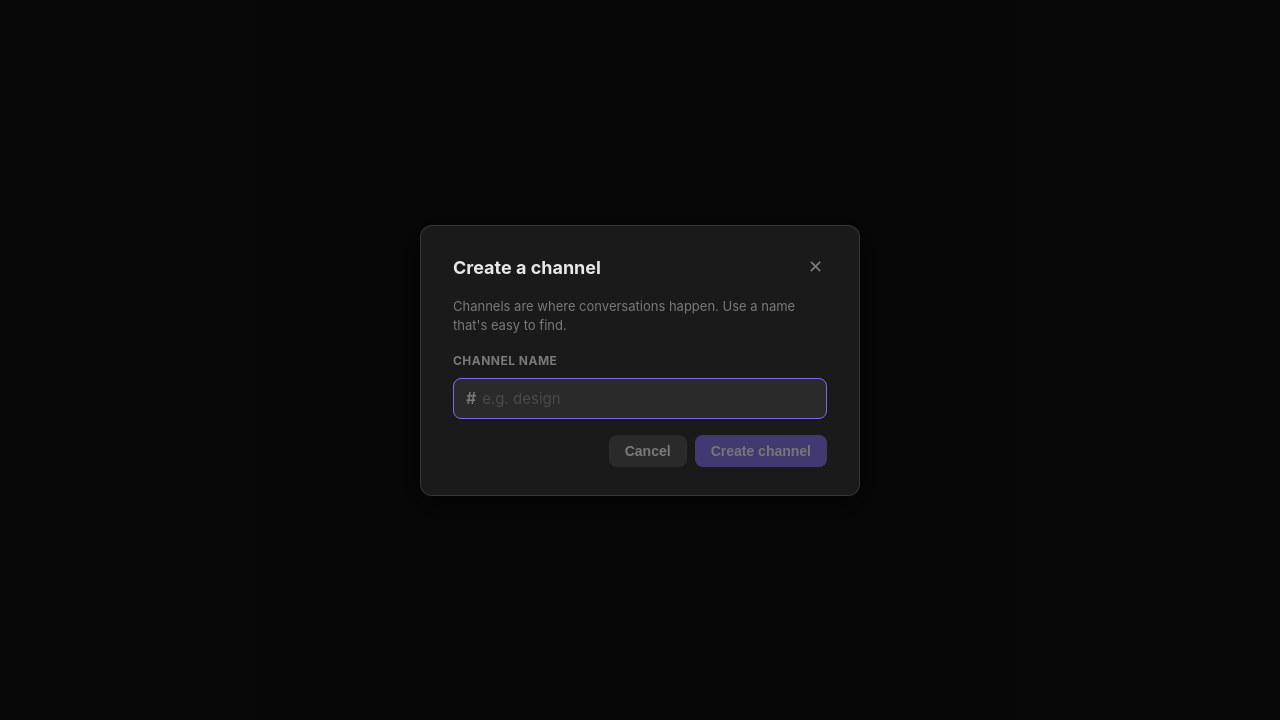
Test: CreateChannelModal — input validation › enables Create button when input has valid text
Type "design" into the field at (648, 398), box [482,378,814,418]
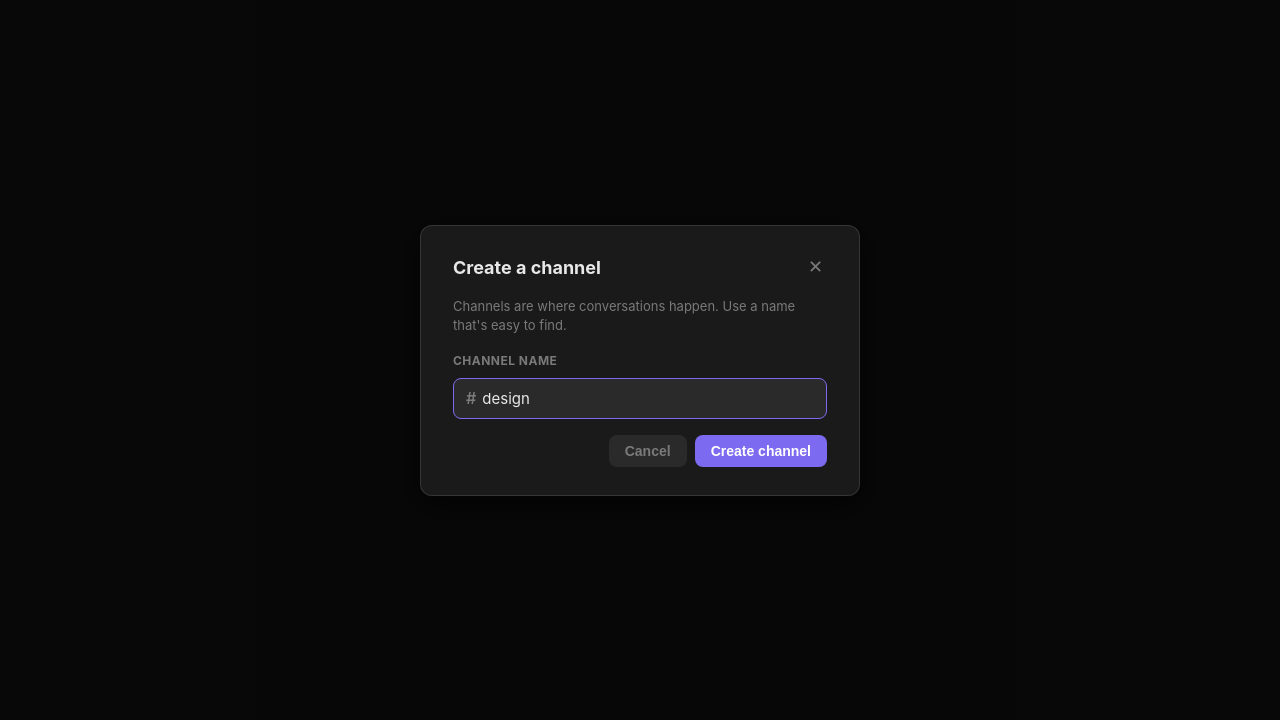
Expected: the button "Create channel" is enabled, [695,434,827,466]
